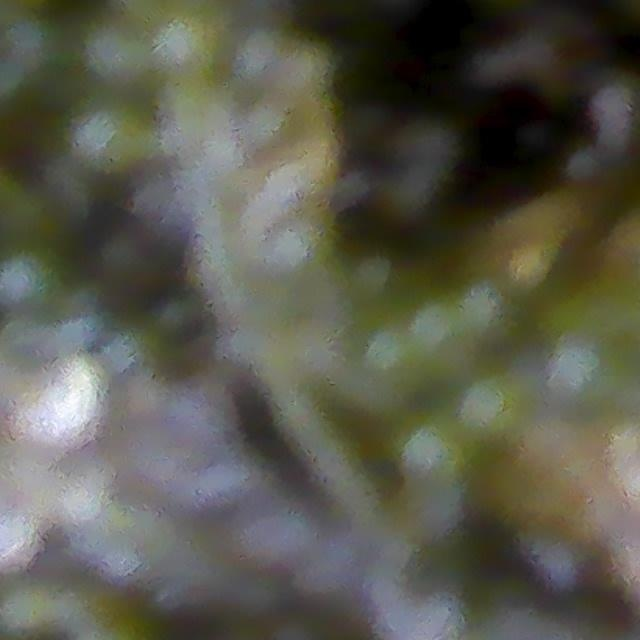SeaGrape: (7, 352, 96, 451), (455, 372, 532, 448)
